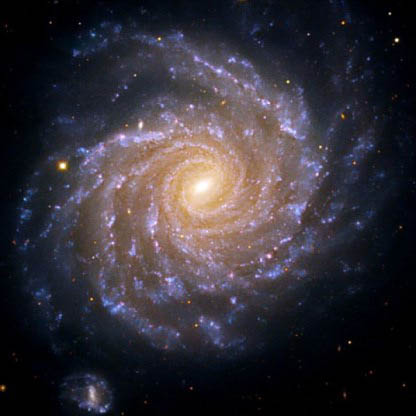NGC 1232: (22, 12, 398, 413)
